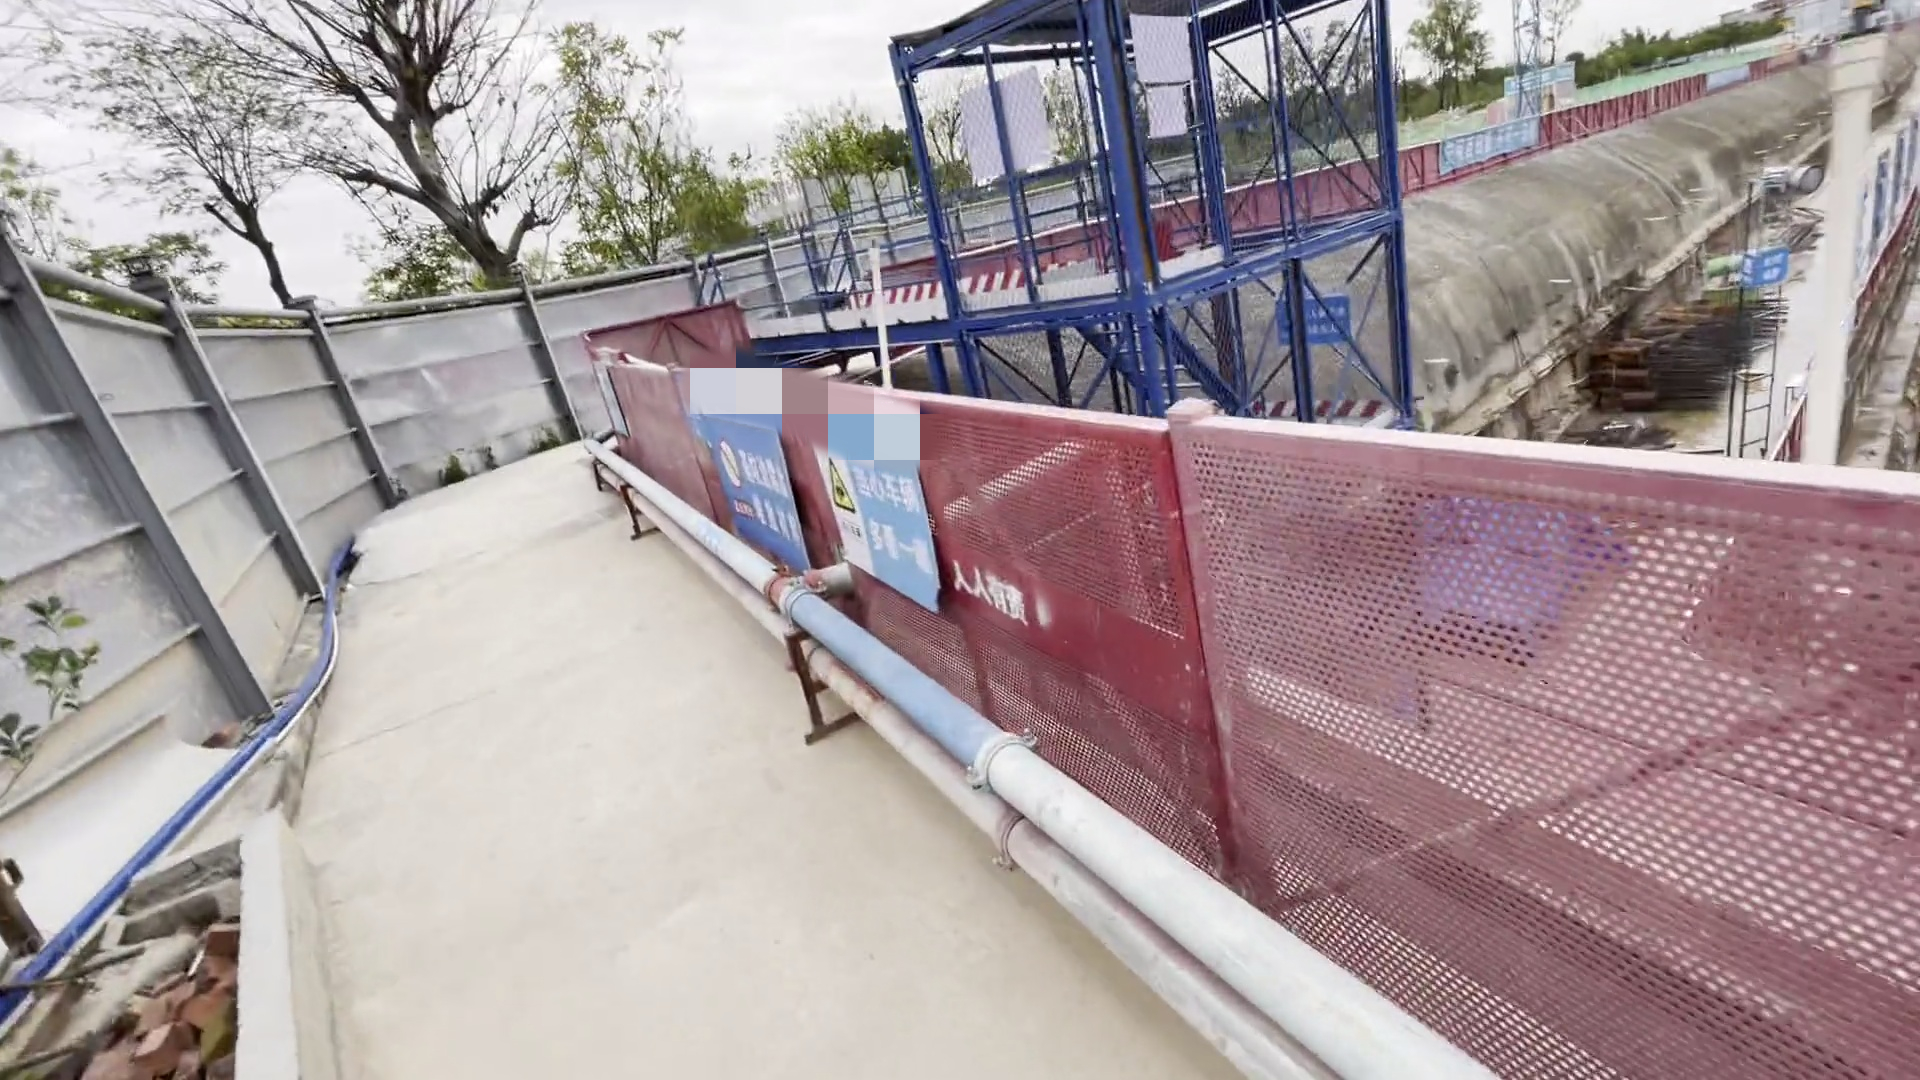fence: (588, 336, 1882, 1051), (1296, 32, 1818, 227)
slogan: (682, 371, 945, 588), (1437, 120, 1542, 170), (1279, 289, 1356, 351), (1735, 237, 1797, 301), (1497, 65, 1581, 95)
